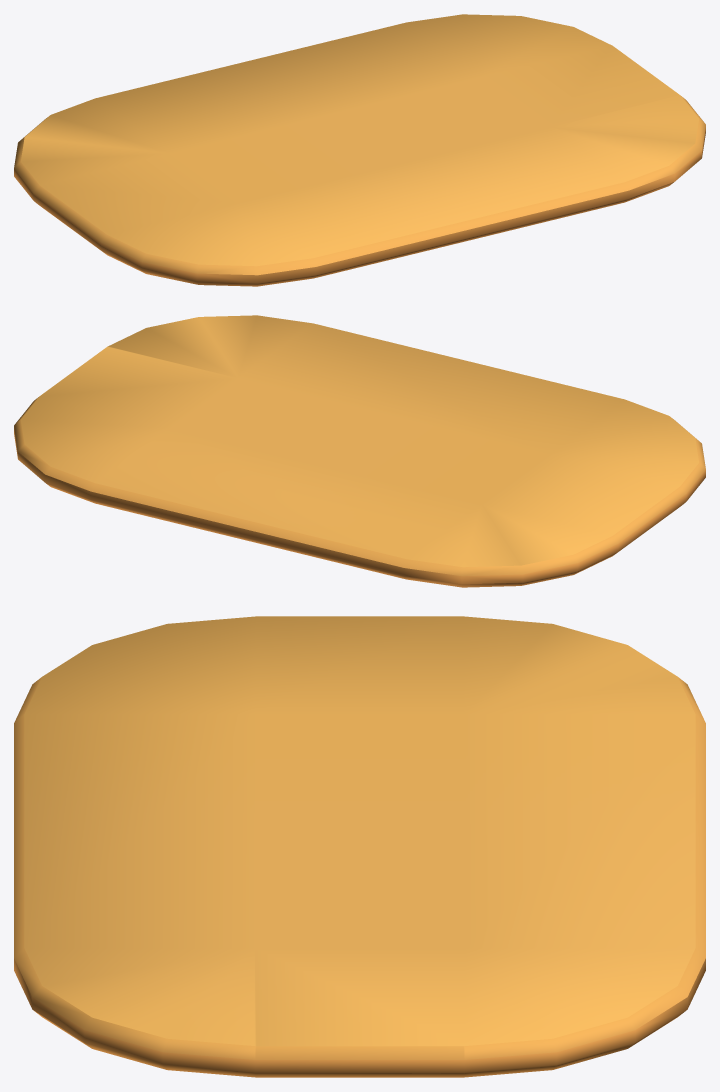
Rendered from kkf.rug_oval_a.glb.
The picture shows the model from 3 angles, top to bottom: view 1: azimuth 30°, elevation 25°; view 2: azimuth 150°, elevation 25°; view 3: azimuth 270°, elevation 25°; orthographic projection. The views are drawn at different scales.
Parts seen in each view (by area): view 1: rug_oval_A; view 2: rug_oval_A; view 3: rug_oval_A.
Part boxes in pixels (x1,y1,x2,y2): rug_oval_A: (14, 14, 705, 286); rug_oval_A: (14, 315, 705, 587); rug_oval_A: (14, 616, 705, 1077).
Size of the model in its own units: 2.15 by 0.0715 by 1.43.
1 material, 1 textured.
